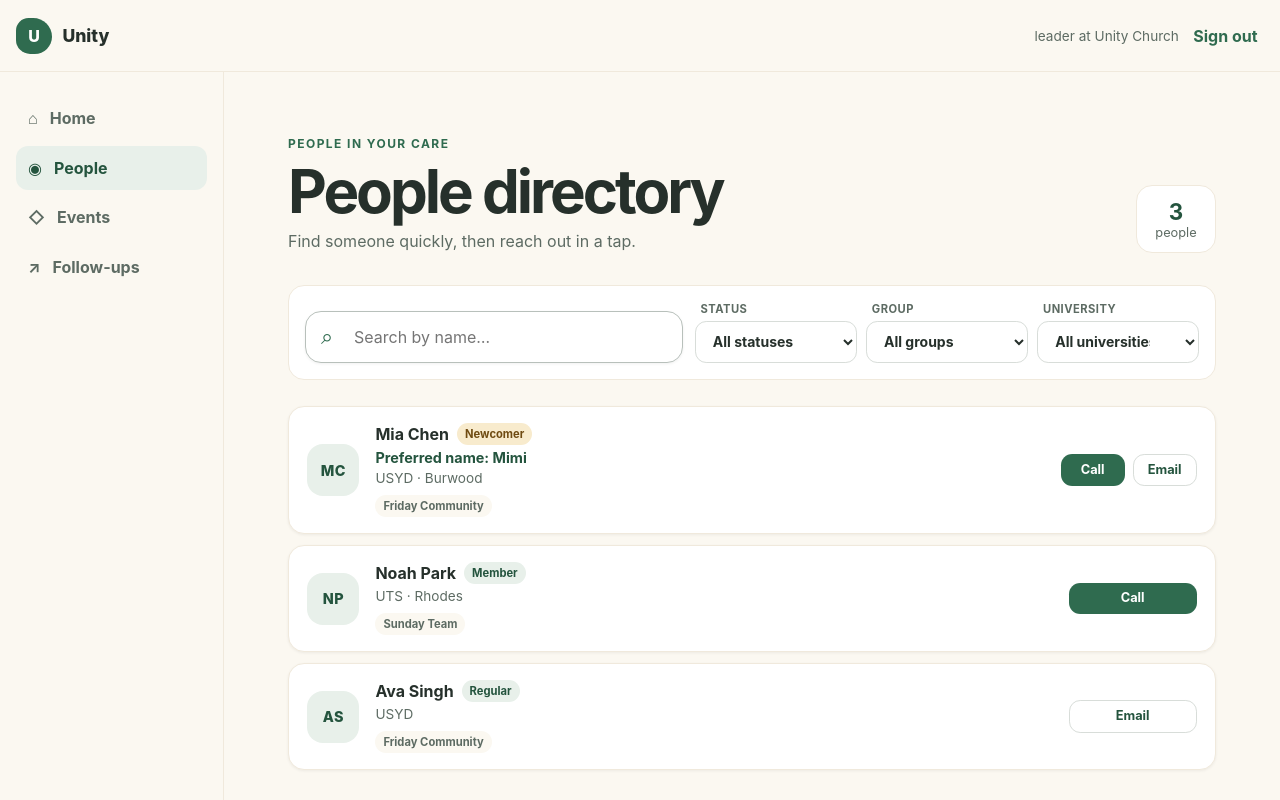
People directory › shows a recoverable empty result state
Type "nobody here" into the search field named "Search people by name".
click(494, 337); type("nobody here")  # box [305,311,683,363]
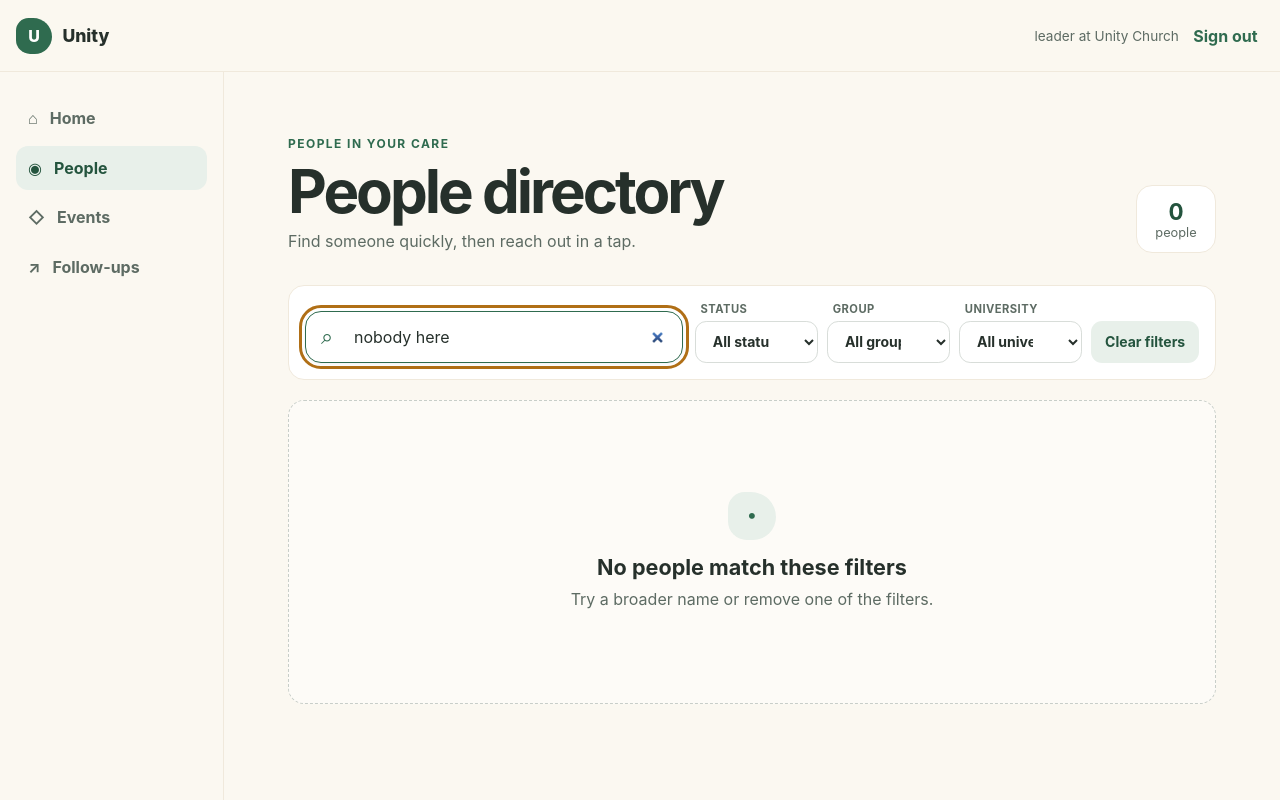
Check: the heading "No people match these filters" is shown, box [597,554,907,580]
Click the button "Clear filters".
click(1145, 342)  # box [1091,321,1199,363]
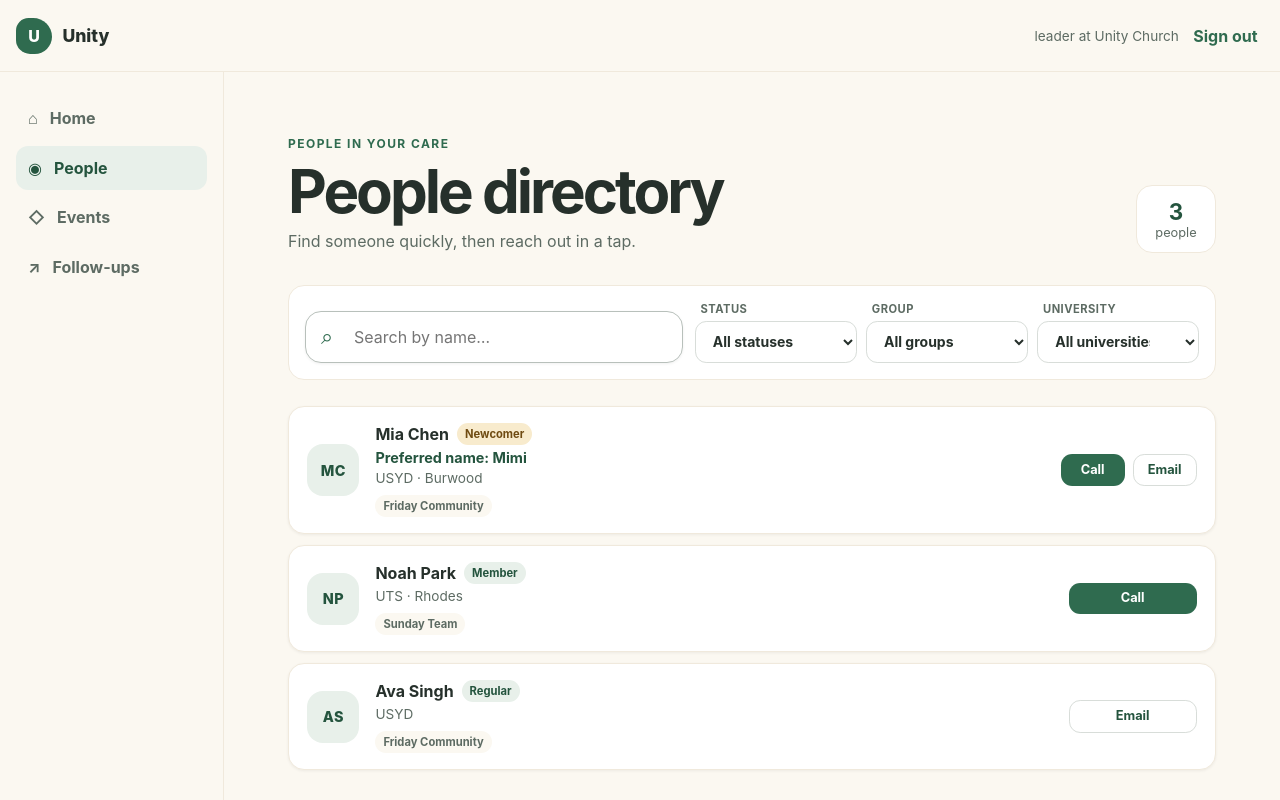
Check: the link "Mia Chen" is shown, box [375,424,449,444]
